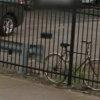Bicycle: (37, 31, 95, 99)
